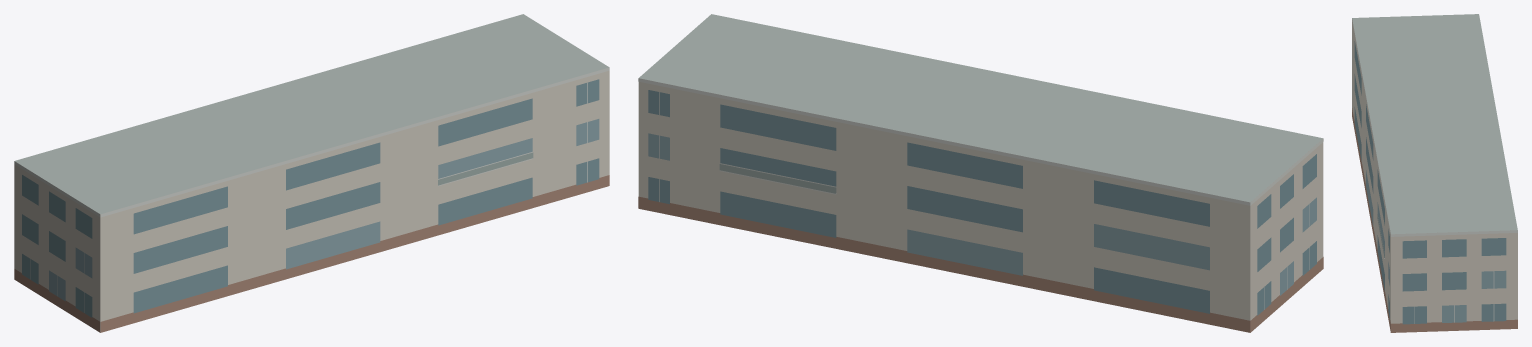
The model's file is survey-upis-32813245.glb.
3 views of the same model, side by side, from view 1: azimuth 30°, elevation 25°; view 2: azimuth 150°, elevation 25°; view 3: azimuth 270°, elevation 25° (orthographic). The views are drawn at different scales.
Parts seen in each view (by area): view 1: survey-upis-32813245.tmp; view 2: survey-upis-32813245.tmp; view 3: survey-upis-32813245.tmp.
Part boxes in pixels (x1,y1,x2,y2): survey-upis-32813245.tmp: (14, 14, 609, 332); survey-upis-32813245.tmp: (638, 14, 1323, 332); survey-upis-32813245.tmp: (1352, 14, 1517, 332).
Bounding box in the file's own units: 43.82 × 9.15 × 13.94.
